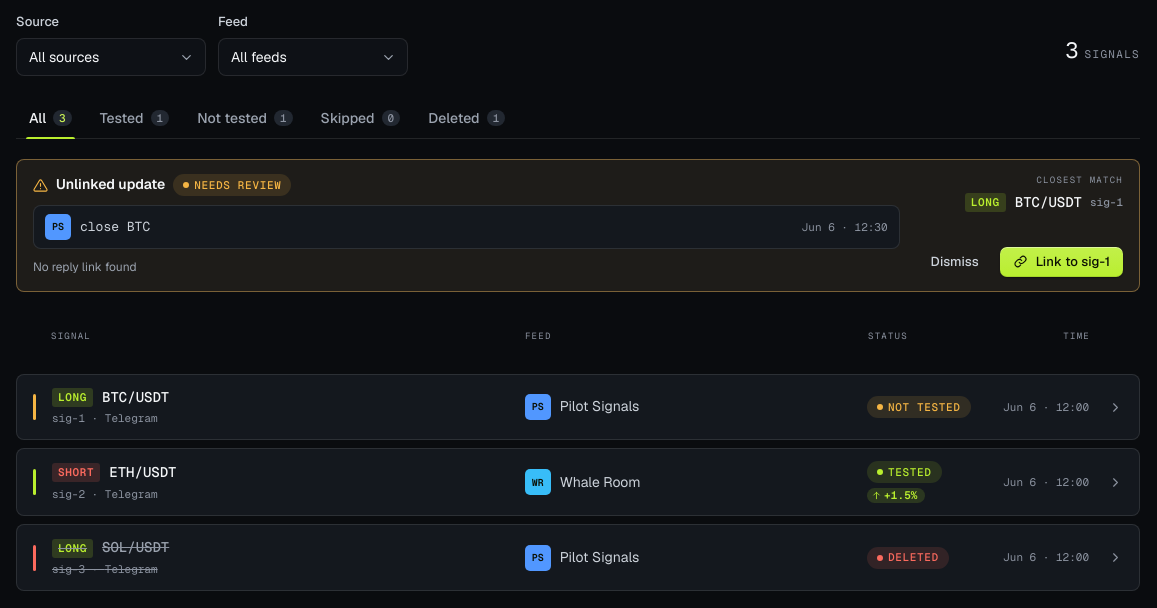
Test: SignalsView › filters by feed and tab
Expected: the text "BTC/USDT" is shown, [1015,193,1082,211]
Select "Whale Room" in the dropdown labelled "Feed" at (313, 57), box [218,38,408,76]
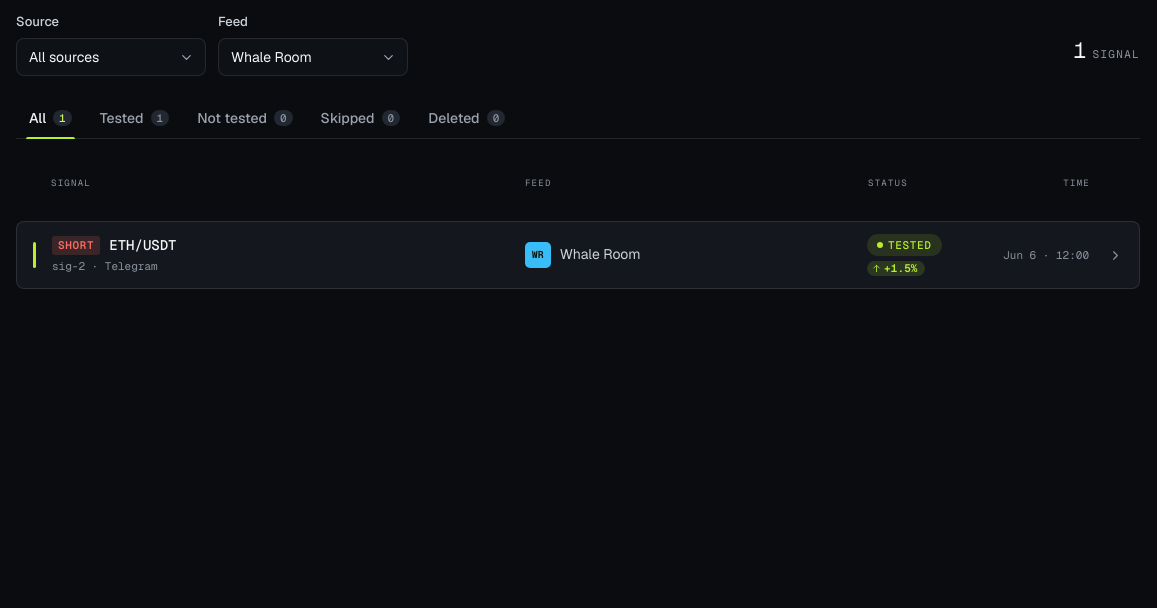
Expected: the text "ETH/USDT" is shown, [109,236,176,254]
Now the text "BTC/USDT" is gone
Click the tab "Not tested 0" at (245, 119), box [184,100,306,138]
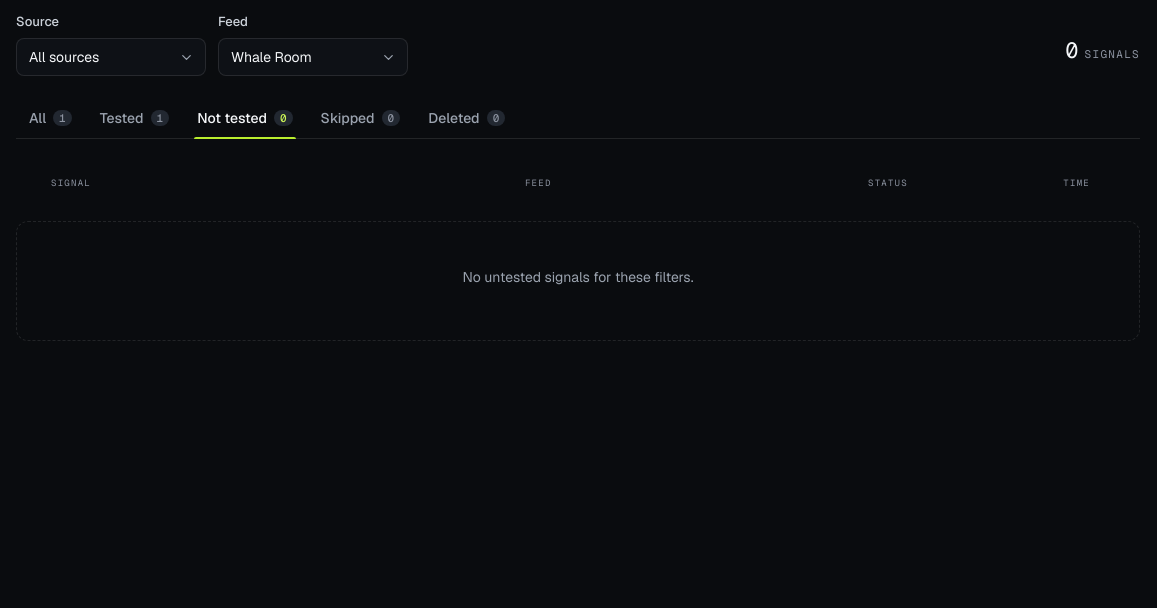
Now the text "No untested signals for these filters." is shown, box [462,267,693,289]
